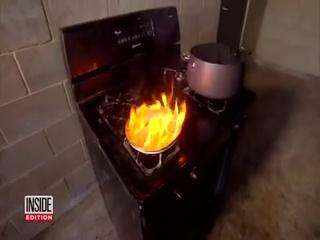Fire: (124, 64, 194, 154)
